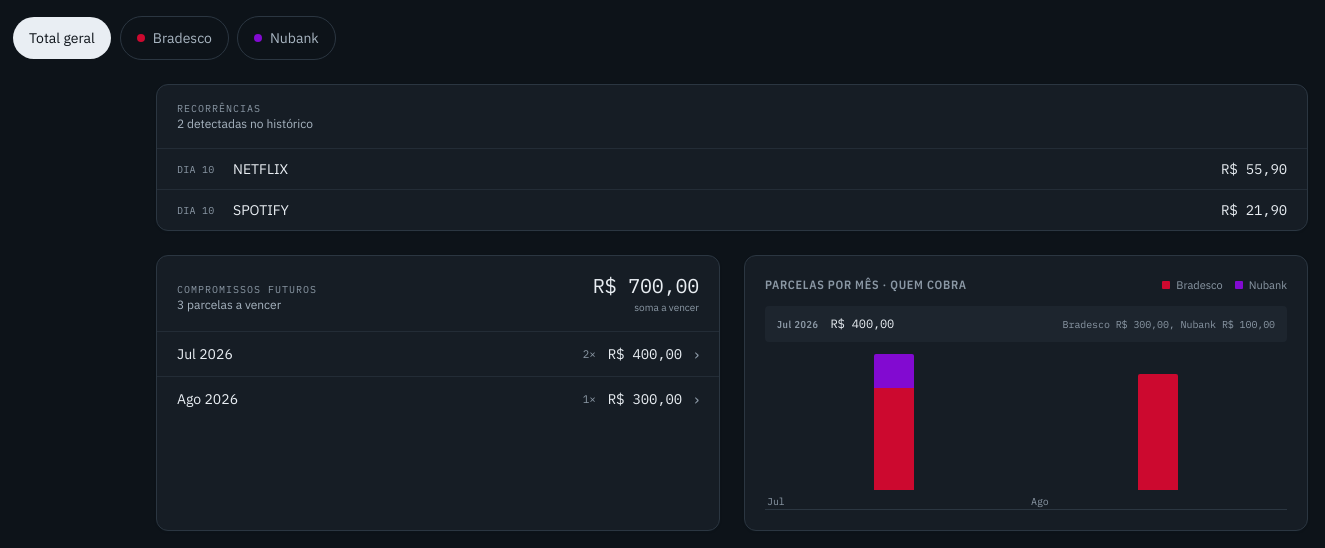
Test: Recorrências › desenha os compromissos futuros por mês, e o clique abre o mês na lista
Note: A lista ao lado abre no mês clicado, sem que ninguém precise procurá-lo.
Click the button "jul" at (894, 430), box [765,350,1023,509]
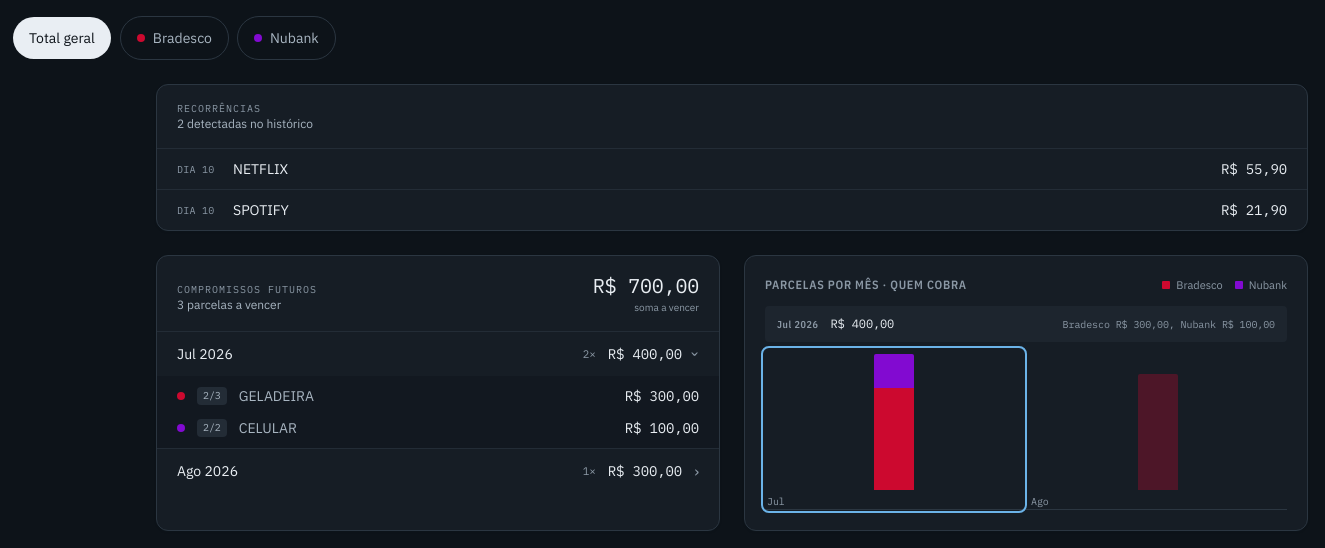
Expected: the text "GELADEIRA" is shown, [239,387,314,405]
